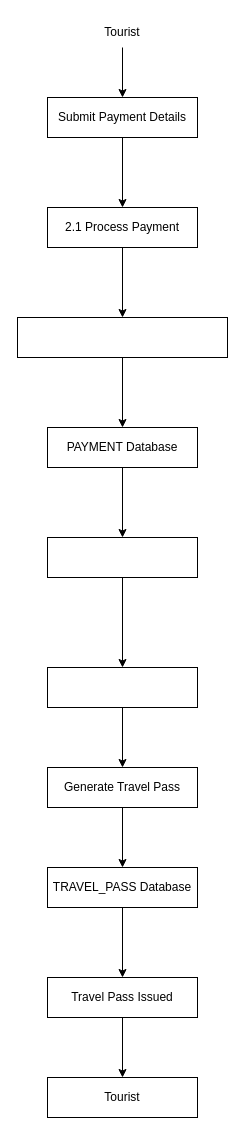
The diagram is 245 pixels wide and 1135 high, and some of its shapes have lost their labels. The shapes that lost their labels are listed below. From the top down, each one's centre as x and y in pixels, then its label:
At point 122,337: "Validate Payment Information".
At point 122,557: "Payment Successful?".
At point 122,687: "Yes".
